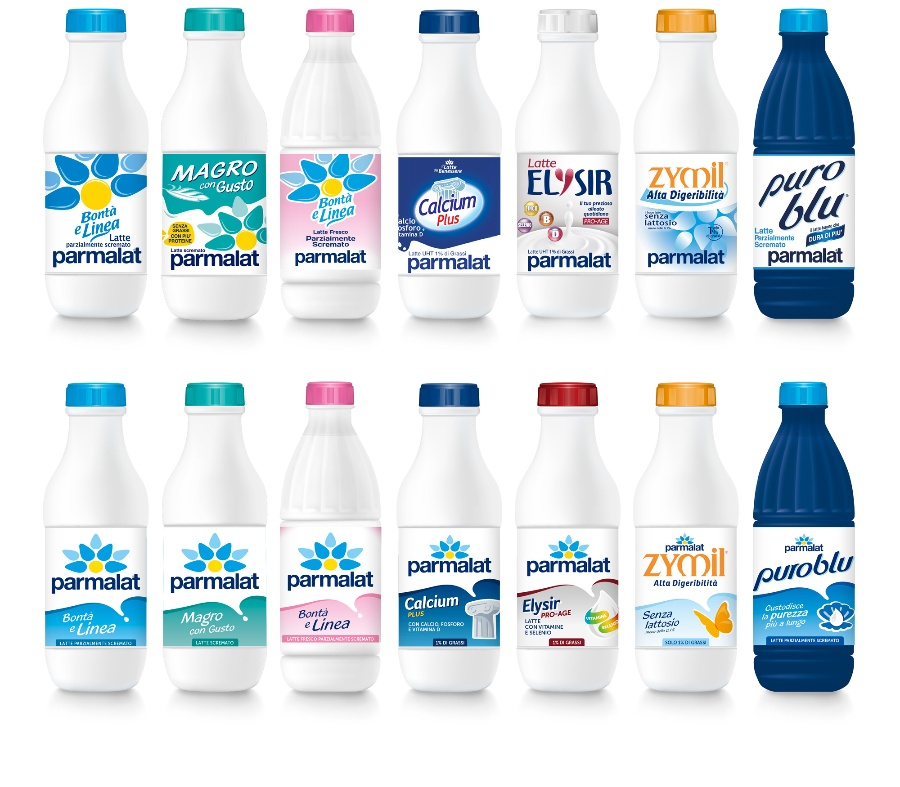milk: (30, 4, 160, 326), (620, 382, 748, 709), (148, 8, 278, 328), (390, 8, 518, 332), (501, 5, 626, 330), (33, 374, 157, 699), (271, 376, 391, 700), (152, 378, 273, 699), (507, 380, 625, 709), (632, 6, 748, 335), (398, 377, 513, 707), (271, 4, 385, 329)
